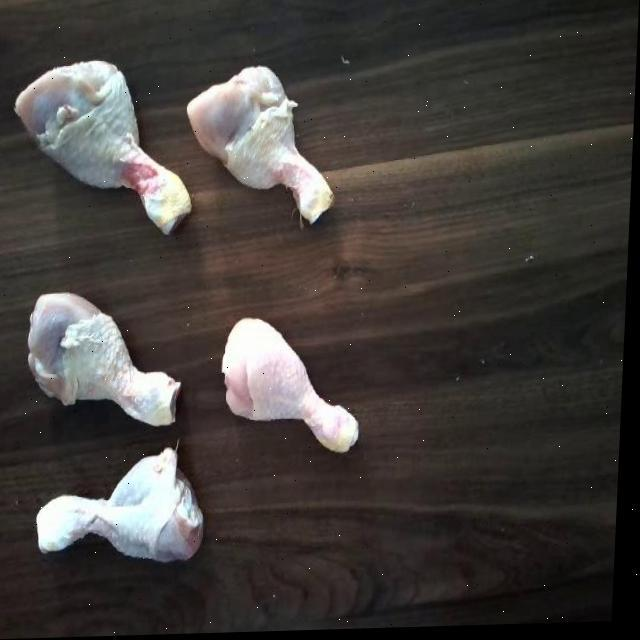leg: (15, 276, 196, 440), (182, 58, 344, 233), (29, 63, 190, 227), (212, 308, 370, 467), (38, 454, 206, 580)
